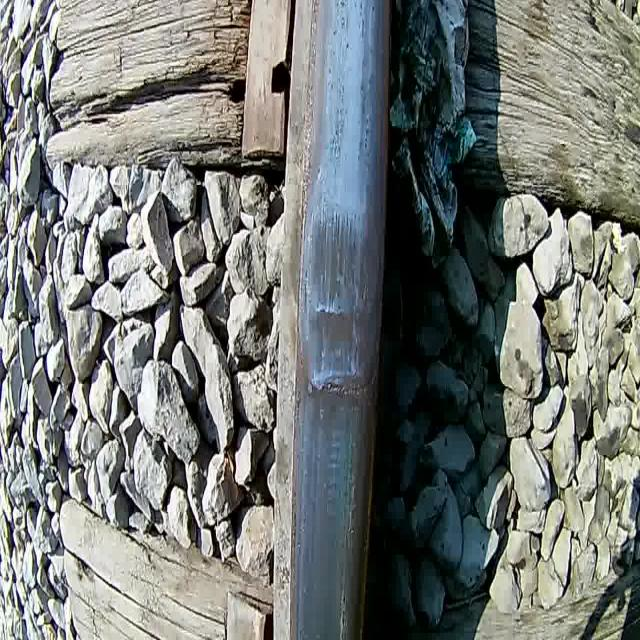Cracks: (299, 374, 380, 406)
Squats: (305, 206, 375, 305), (303, 303, 374, 372)
